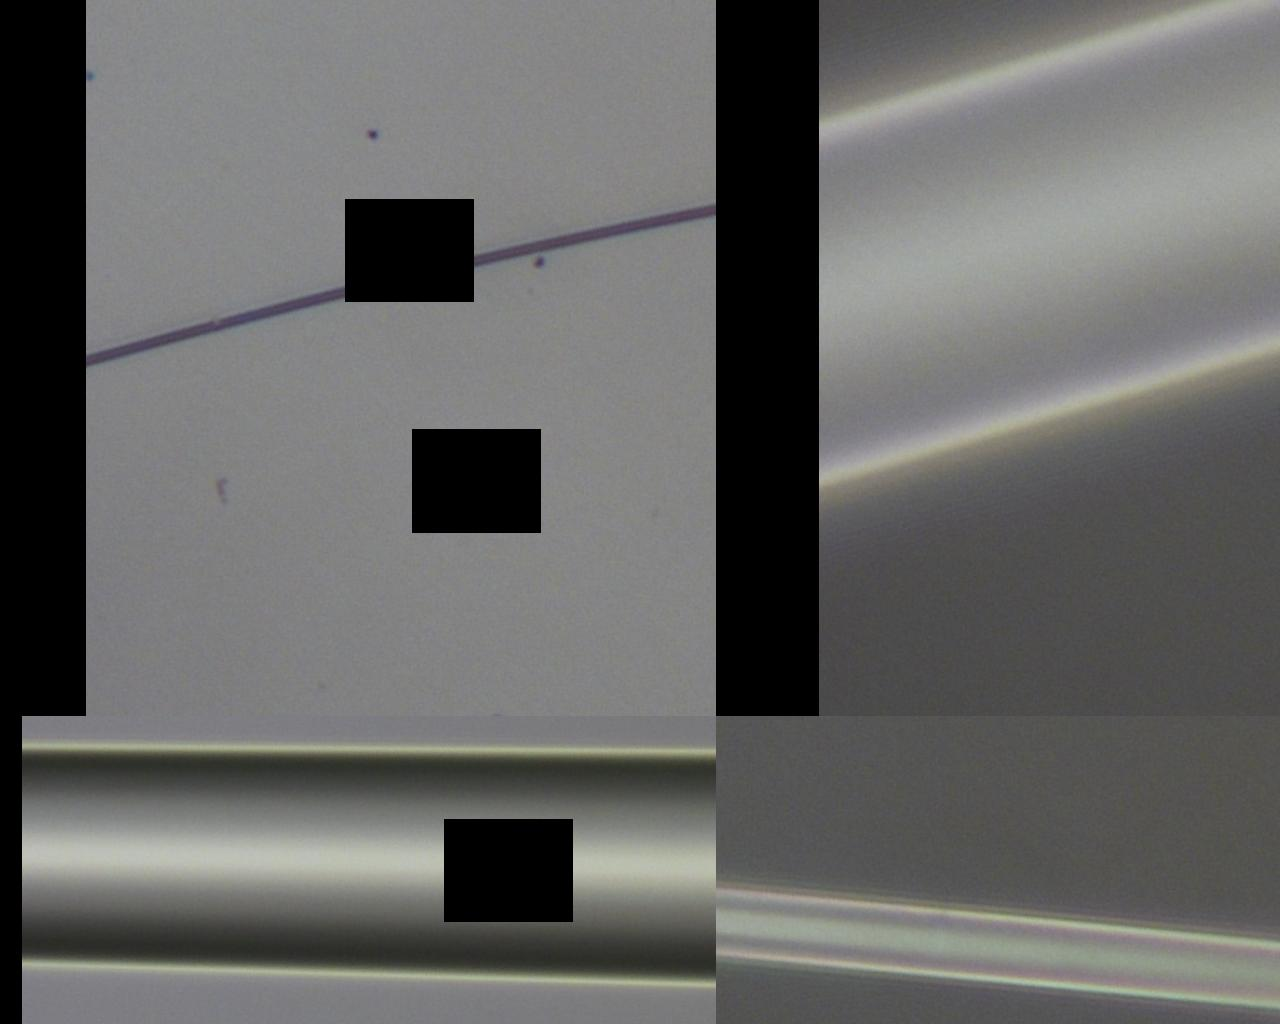fiber: (818, 0, 1280, 492), (21, 746, 716, 986), (85, 205, 716, 370), (716, 881, 1280, 1011)
